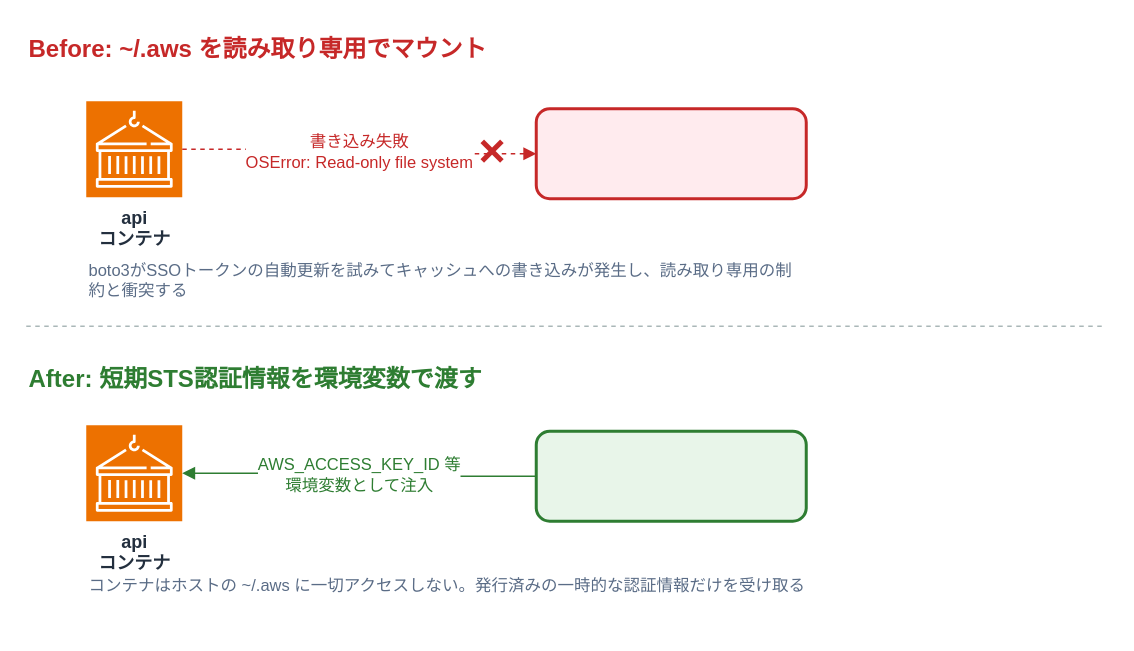
The diagram is 1134 pixels wide and 651 high, and some of its shapes have lost their labels. The centre of each missing label's shape, as x and y in pixels:
aws configure export-credentials (.env に貼り付け): [670,475]
~/.aws (read-only mount) SSOトークンキャッシュ: [670,153]
